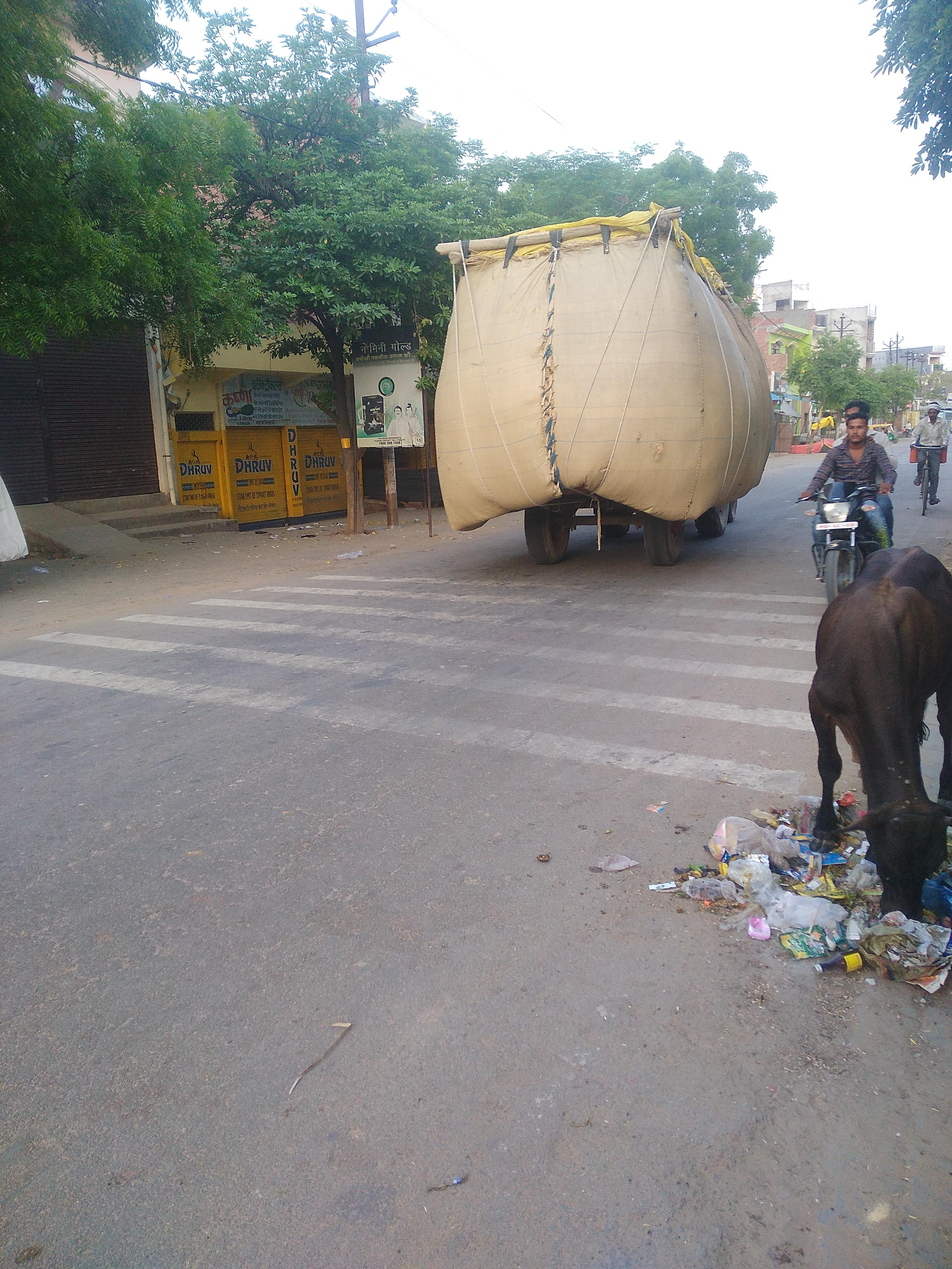Non-emergency: (382, 91, 800, 645)
